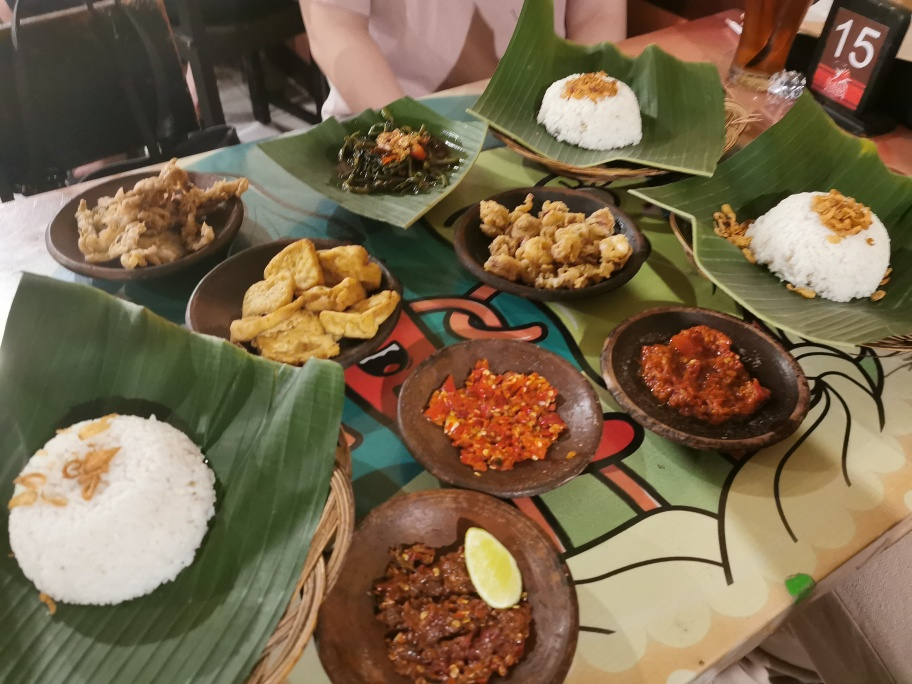nasi putih: (8, 415, 218, 601), (742, 188, 897, 305), (536, 67, 647, 151)
